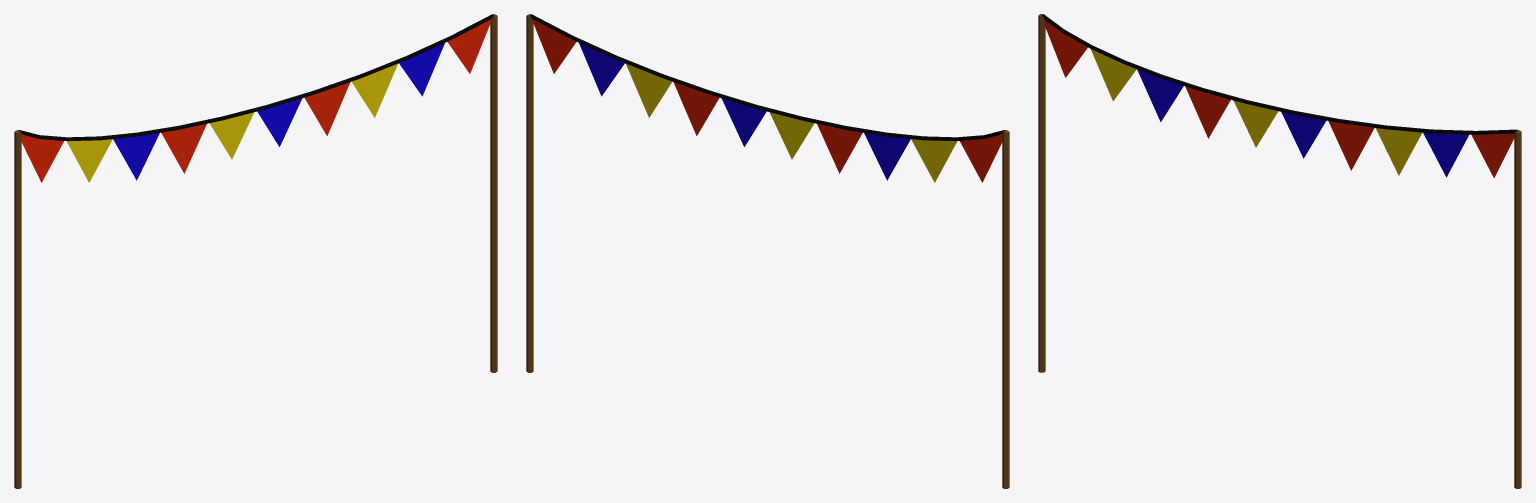
The model's file is Flags.glb.
The picture shows the model from 3 angles, left to right: view 1: azimuth 30°, elevation 25°; view 2: azimuth 150°, elevation 25°; view 3: azimuth 330°, elevation 25°; orthographic projection.
Parts seen in each view (by area): view 1: Flags; view 2: Flags; view 3: Flags.
Boxes of the visible parts, <box> form: Flags: <box>14,14,497,488</box>; Flags: <box>526,14,1009,488</box>; Flags: <box>1038,14,1521,488</box>.
Bounding box in the file's own units: 2.83 × 2.01 × 0.0364.
